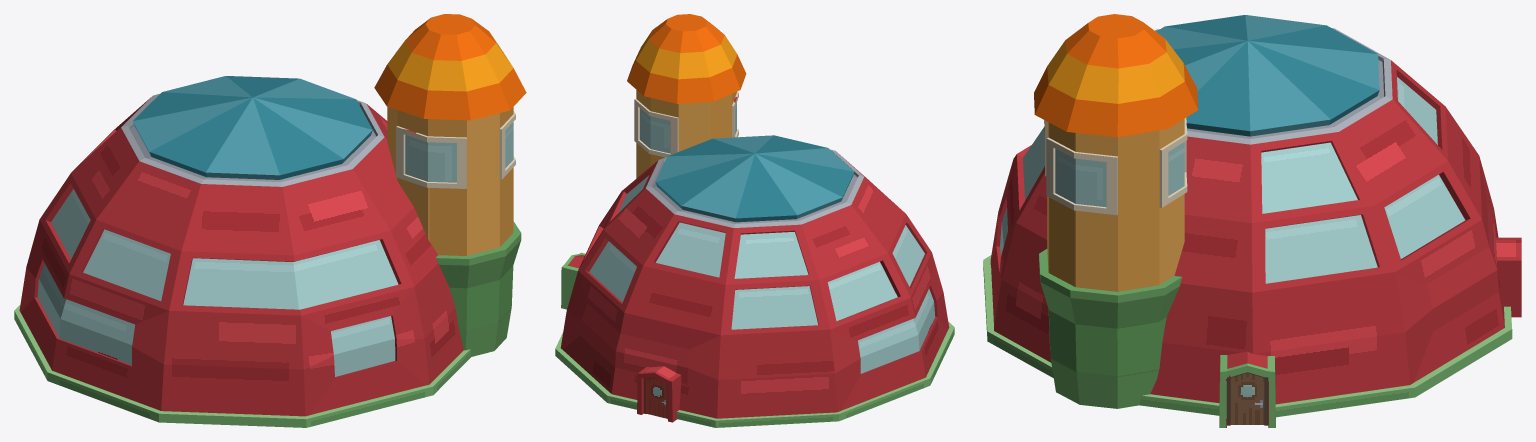
Rendered from W.house_red.gltf.
3 renders of one model, left to right at view 1: azimuth 30°, elevation 25°; view 2: azimuth 150°, elevation 25°; view 3: azimuth 270°, elevation 25°, orthographic. The views are drawn at different scales.
Visible parts, largest first — view 1: s3_2, s3_1; view 2: s3_2, s3_1; view 3: s3_2, s3_1.
Boxes of the visible parts, x1=… form: s3_2: x1=14, y1=76, x2=471, y2=427; s3_1: x1=374, y1=14, x2=526, y2=356; s3_2: x1=555, y1=135, x2=954, y2=427; s3_1: x1=627, y1=14, x2=746, y2=178; s3_2: x1=983, y1=15, x2=1521, y2=427; s3_1: x1=1034, y1=14, x2=1198, y2=408.
Bounding box in the file's own units: 6.39 × 4.44 × 6.08.
Materials: 1 (1 with a texture image).
